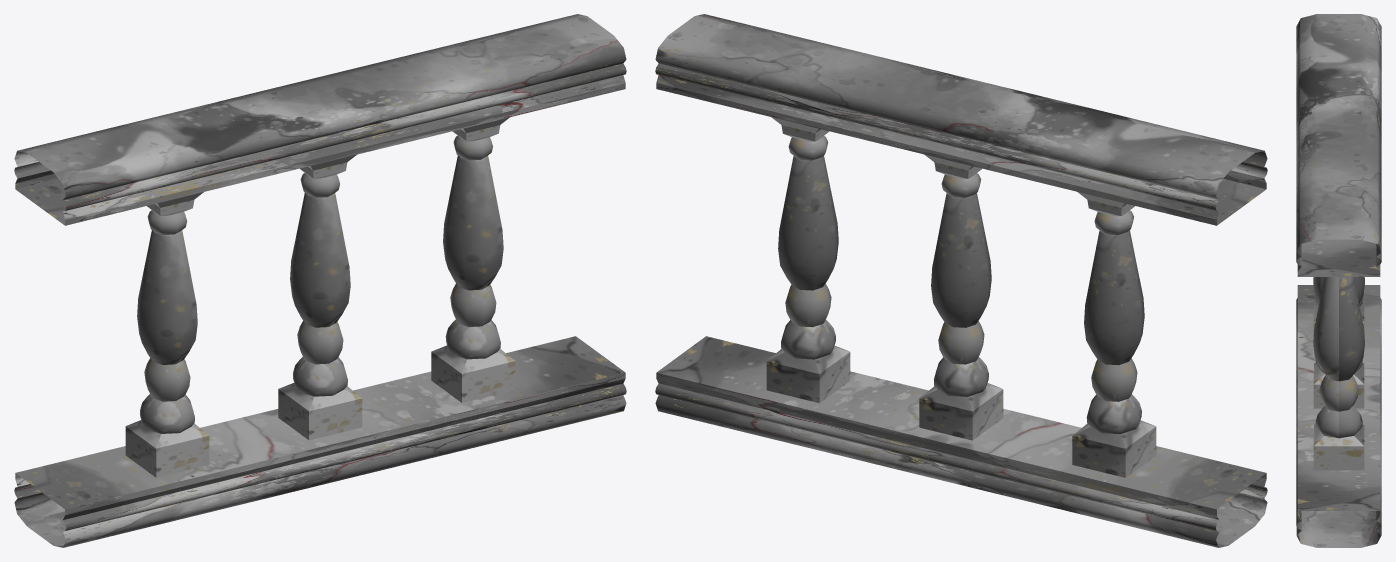
Rendered from Railing_8.fbx.
3 views of the same model, side by side, from view 1: azimuth 30°, elevation 25°; view 2: azimuth 150°, elevation 25°; view 3: azimuth 270°, elevation 25° (orthographic). The views are drawn at different scales.
Parts seen in each view (by area): view 1: Railing_8; view 2: Railing_8; view 3: Railing_8.
Boxes of the visible parts, x1,y1,x2,y2 form: Railing_8: [14, 14, 626, 547]; Railing_8: [655, 14, 1267, 547]; Railing_8: [1296, 14, 1381, 547].
Size of the model in its own units: 136 by 86.75 by 21.8.
